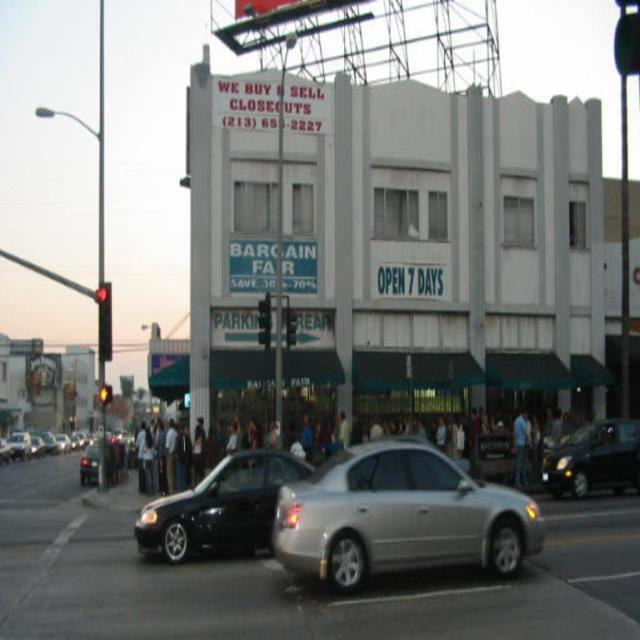traffic light: (98, 282, 115, 361), (256, 297, 272, 343)
